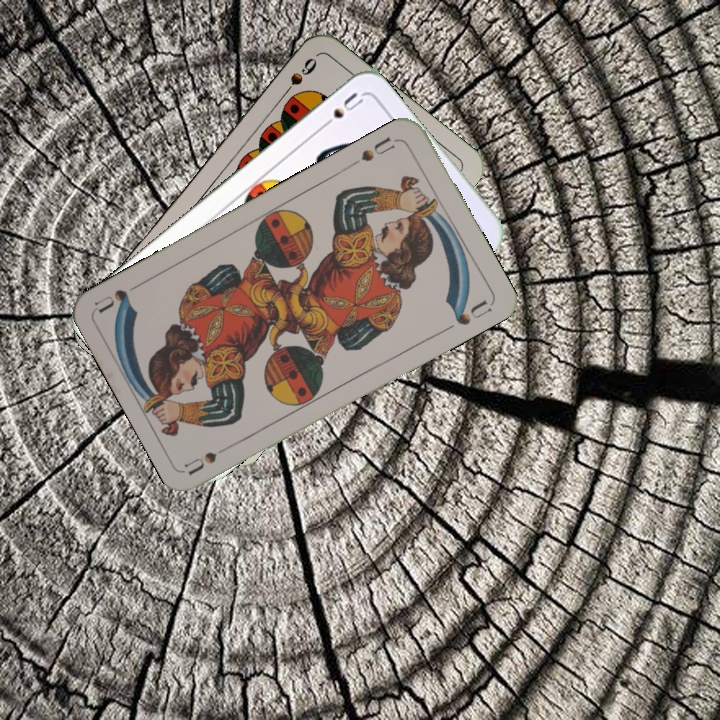S9: (276, 53, 320, 103)
SU: (316, 88, 366, 133), (182, 438, 238, 477), (347, 132, 402, 169)
